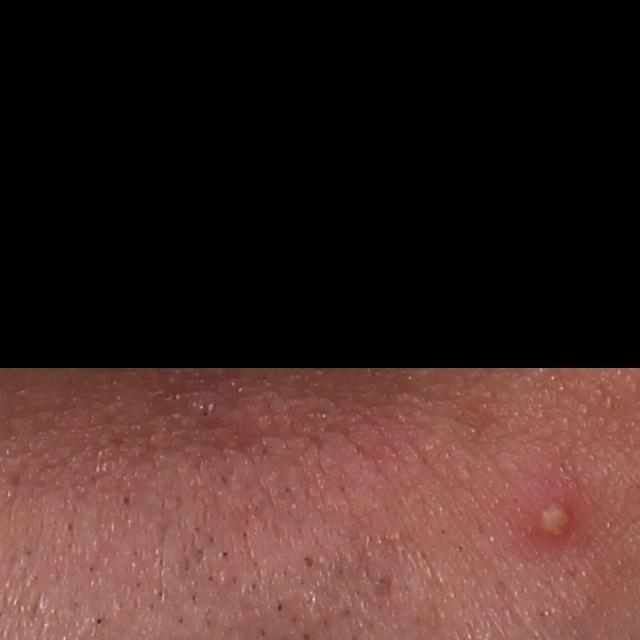pustule: (522, 487, 582, 557)
